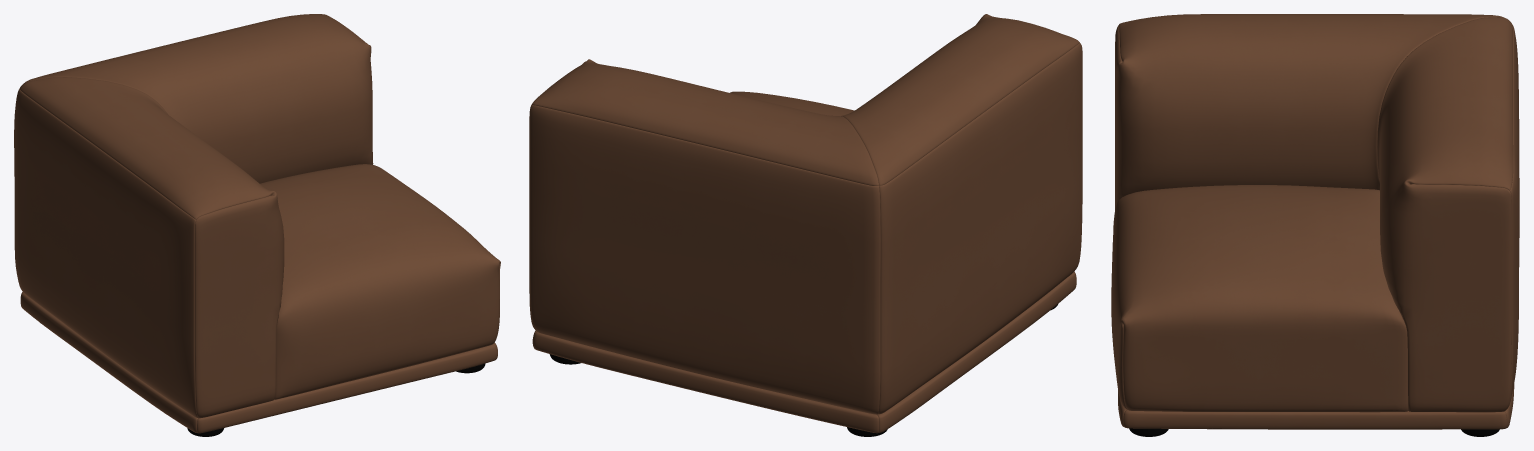
Rendered from ILLUSION-LEATHER-DARK-CAMEL.glb.
3 views of the same model, side by side, from view 1: azimuth 30°, elevation 25°; view 2: azimuth 150°, elevation 25°; view 3: azimuth 270°, elevation 25° (orthographic). The views are drawn at different scales.
Parts seen in each view (by area): view 1: Upholstery_ARSD0; view 2: Upholstery_ARSD0; view 3: Upholstery_ARSD0, Legs_ARSD0.
Boxes of the visible parts, box(x1,y1,x2,y2) form: Upholstery_ARSD0: box(14, 14, 500, 433); Upholstery_ARSD0: box(529, 14, 1082, 433); Upholstery_ARSD0: box(1111, 14, 1519, 429); Legs_ARSD0: box(1129, 428, 1499, 436).
Size of the model in its own units: 0.9436 by 0.7012 by 0.9522.
Materials: 2 (2 with a texture image).
